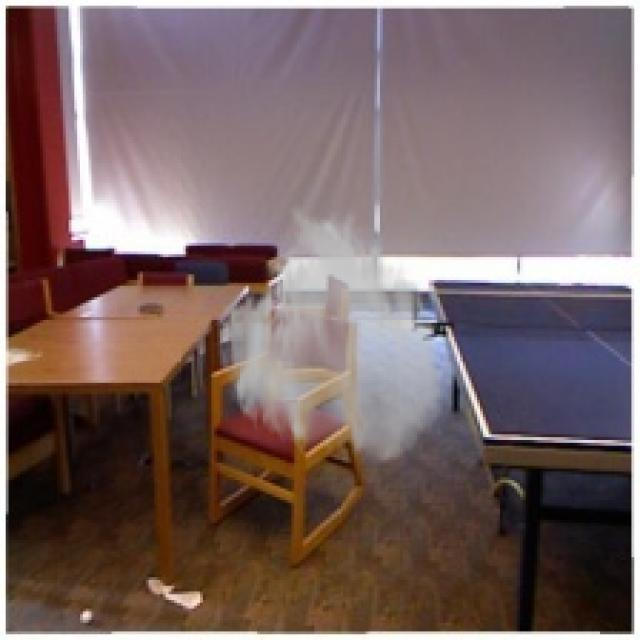Smoke: (217, 200, 446, 469)
